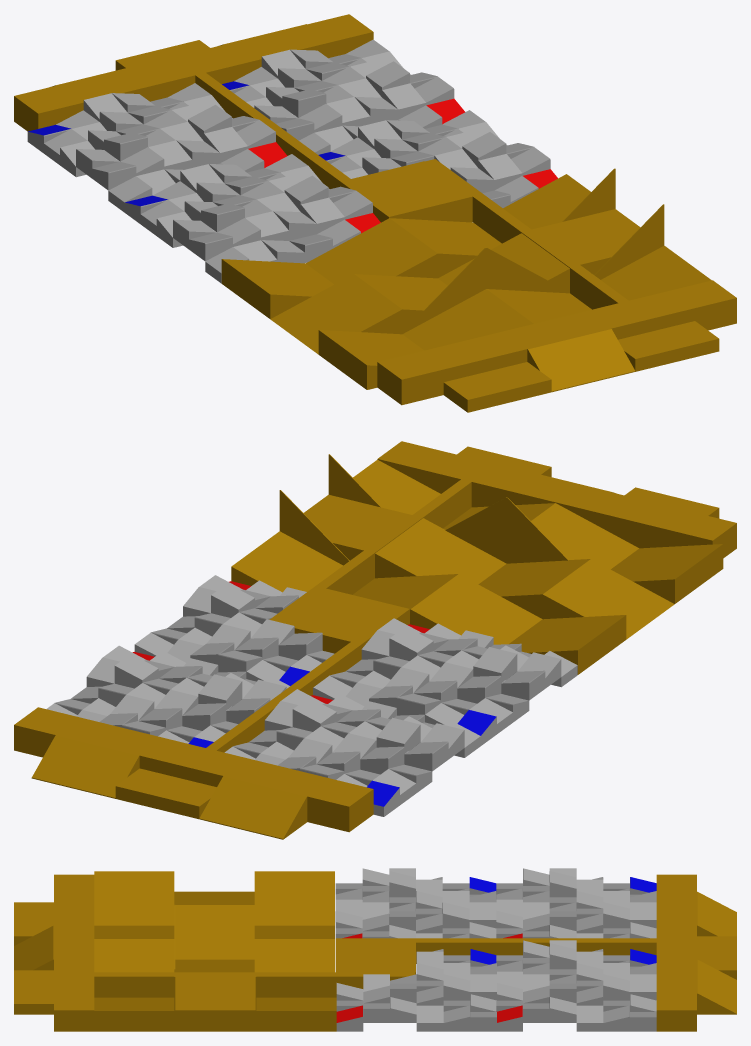
The model's file is R2AB_field.dae.
3 views of the same model, one above another, from view 1: azimuth 30°, elevation 25°; view 2: azimuth 150°, elevation 25°; view 3: azimuth 270°, elevation 25° (orthographic). The views are drawn at different scales.
Visible parts, largest first — view 1: Group1; view 2: Group1; view 3: Group1.
Part boxes in pixels (left/top/right/bottom): Group1: left=14, top=14, right=736, bottom=412; Group1: left=14, top=441, right=736, bottom=839; Group1: left=14, top=868, right=736, bottom=1031.
Bounding box in the file's own units: 0.495 × 1.08 × 0.09.
